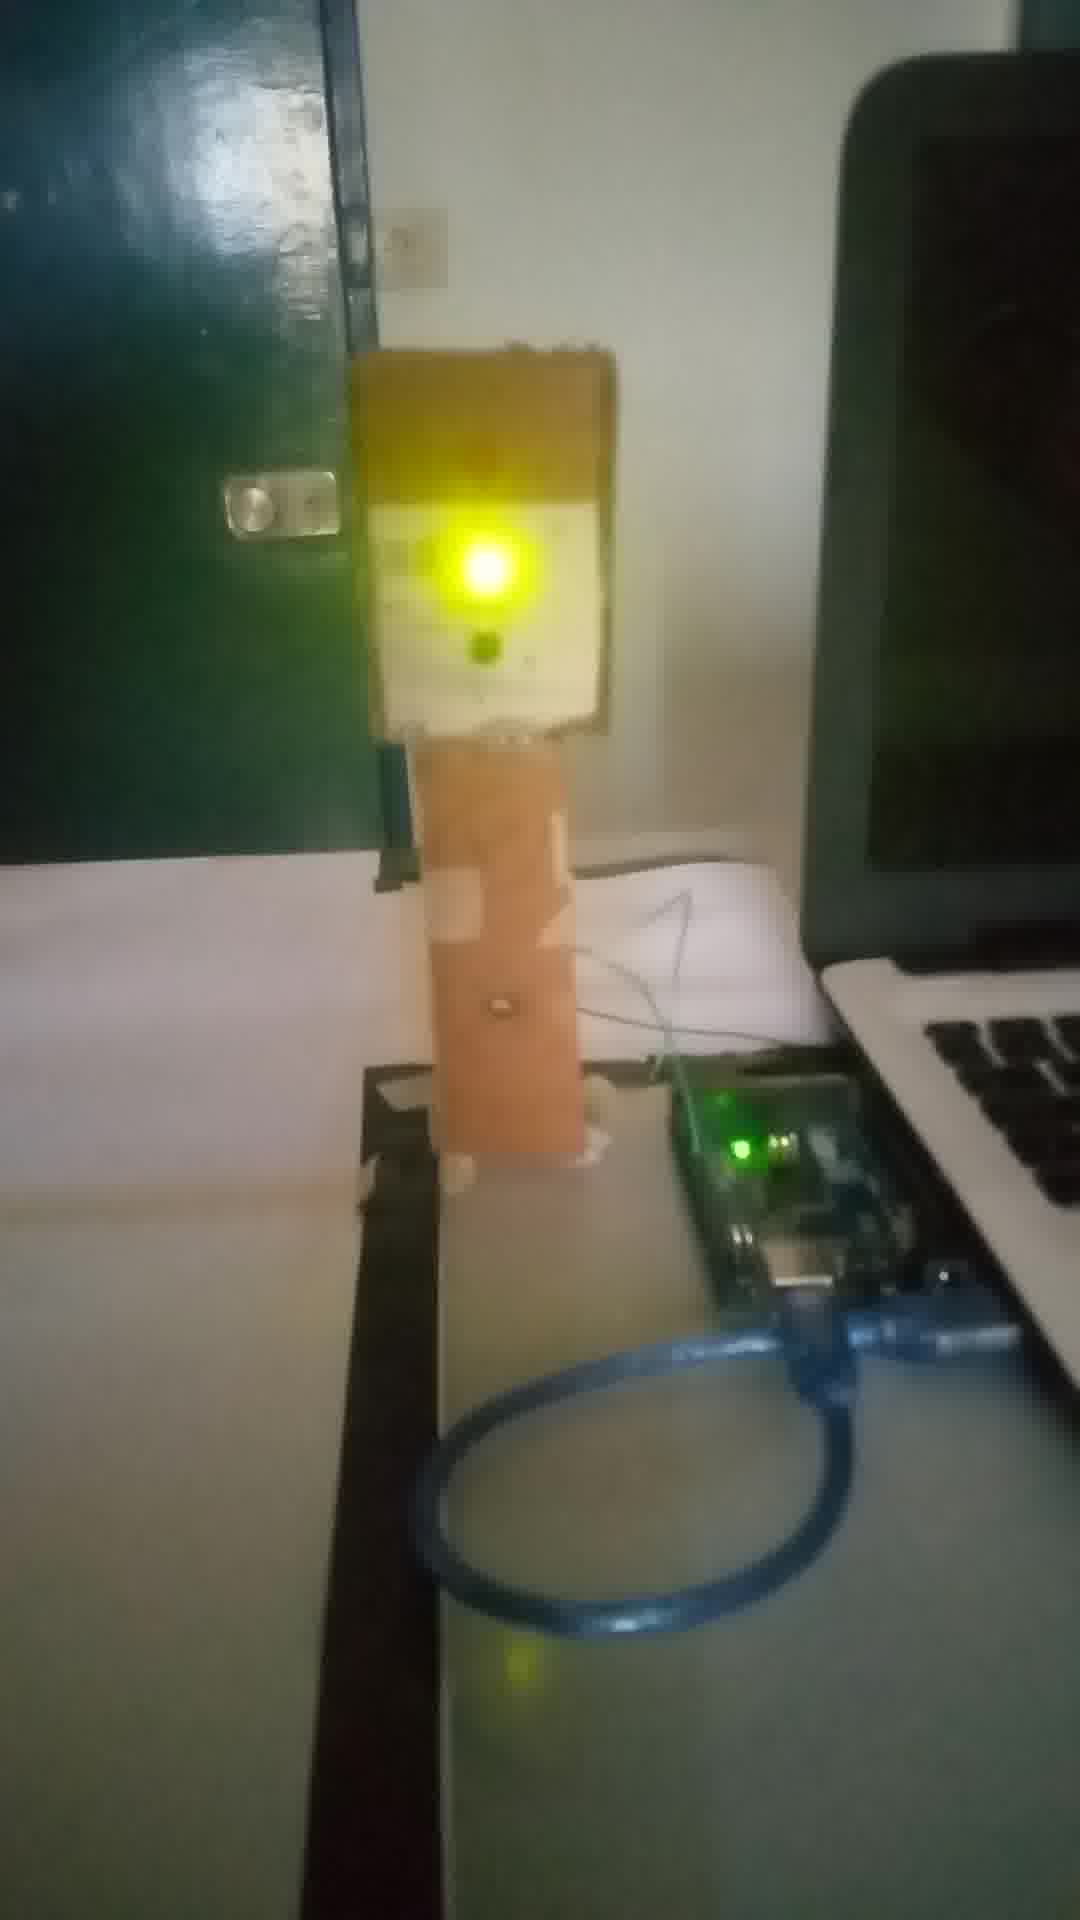yellow: (353, 360, 601, 729)
